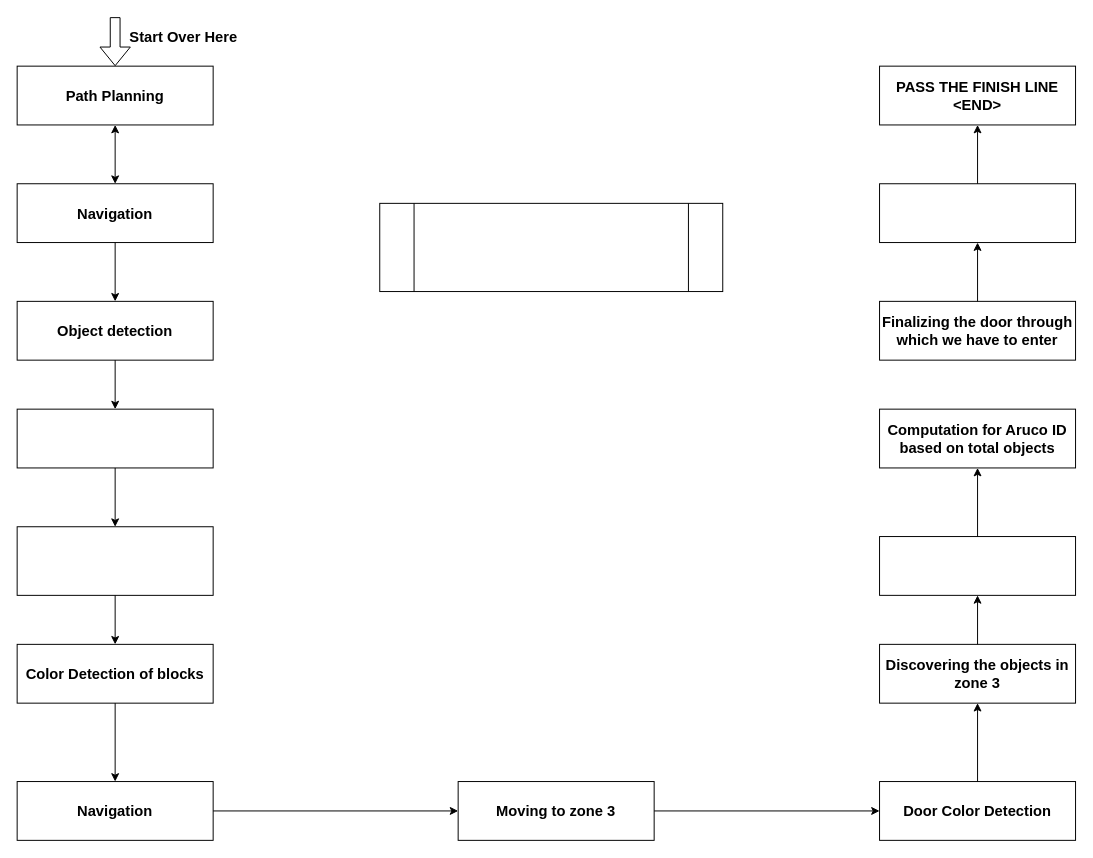
Some shapes in this 1093 by 858 pixel diagram are drawn without their labels. Each missing label, with the box of its shape:
Aruco Marker Detection / Reading: (16, 526, 213, 595)
Basic workflow of the project: (379, 202, 723, 292)
Computation for total Number of Objects: (879, 536, 1076, 595)
Discovering the objects in zone 1 and zone 2: (16, 408, 213, 468)
Final Navigation: (879, 183, 1076, 243)
